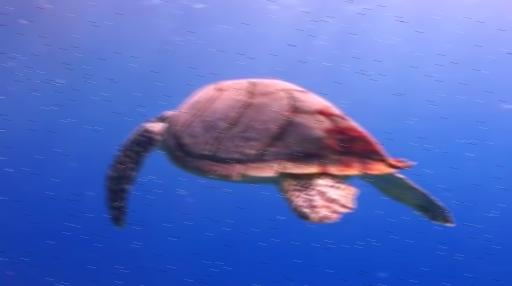Fish: (107, 79, 452, 226)
